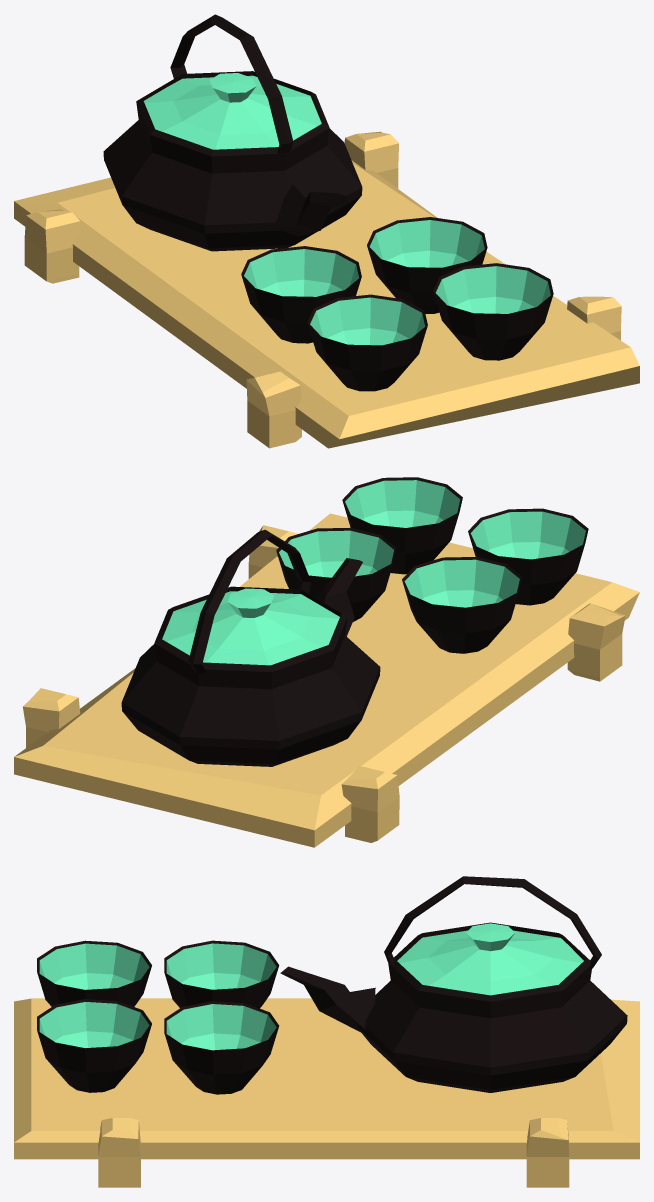
The model's file is teaSet.FBX.
The picture shows the model from 3 angles, top to bottom: view 1: azimuth 30°, elevation 25°; view 2: azimuth 150°, elevation 25°; view 3: azimuth 270°, elevation 25°; orthographic projection. The views are drawn at different scales.
Visible parts, largest first — view 1: tea_set; view 2: tea_set; view 3: tea_set.
Boxes of the visible parts, <box> form: tea_set: <box>14,14,639,448</box>; tea_set: <box>14,477,639,847</box>; tea_set: <box>14,876,639,1187</box>.
Size of the model in its own units: 38.21 by 23.79 by 60.
